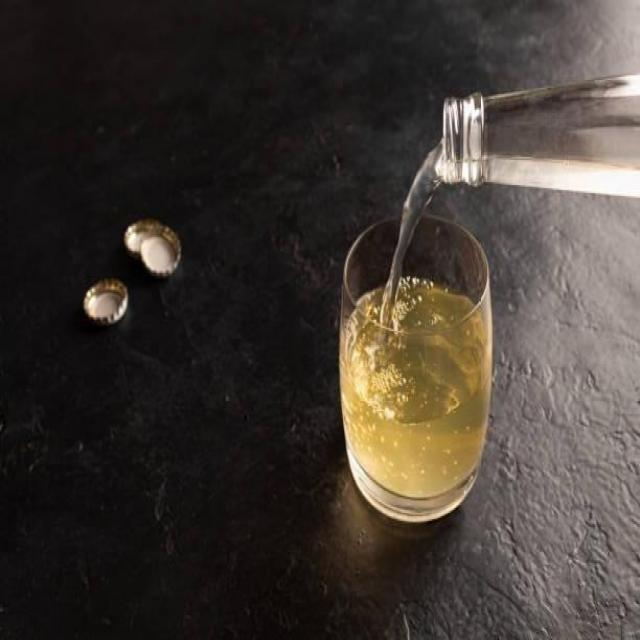glass-normal: (336, 210, 494, 529)
